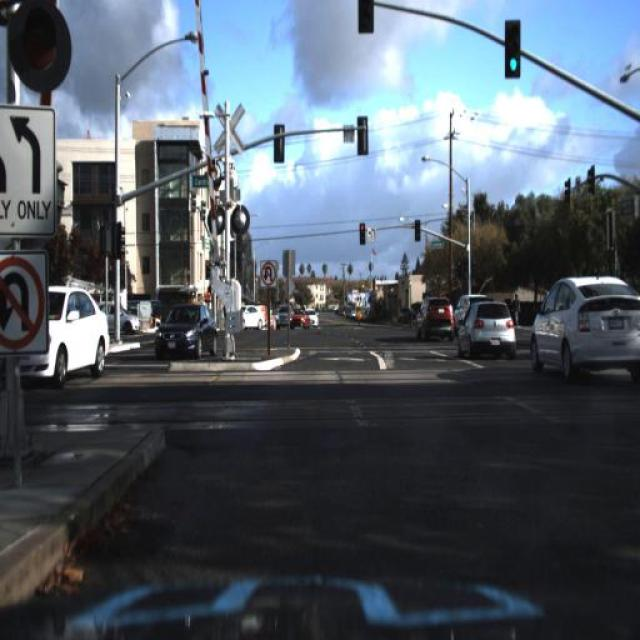car: (521, 270, 633, 382), (0, 288, 111, 389), (155, 303, 221, 367), (458, 293, 520, 361), (410, 290, 456, 349), (81, 300, 145, 338), (448, 290, 472, 349), (228, 299, 263, 335), (288, 302, 310, 328)
trafficLight-Green: (10, 5, 80, 104), (504, 18, 520, 77), (358, 214, 367, 247), (412, 214, 422, 240)
trafficLight-GreenLeft: (459, 250, 470, 280)
